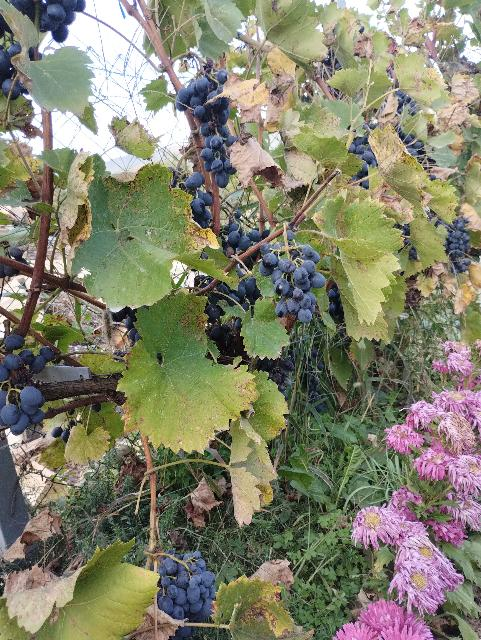grapes: (175, 61, 238, 189), (260, 230, 326, 324), (158, 549, 216, 622), (0, 346, 55, 382), (19, 386, 45, 422), (0, 400, 26, 434), (4, 334, 25, 351), (171, 626, 196, 640), (11, 376, 22, 385)
